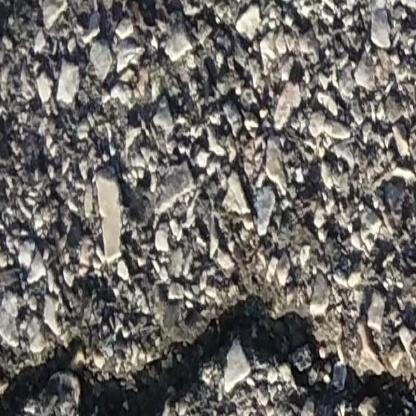Cracks: (0, 290, 416, 416)
